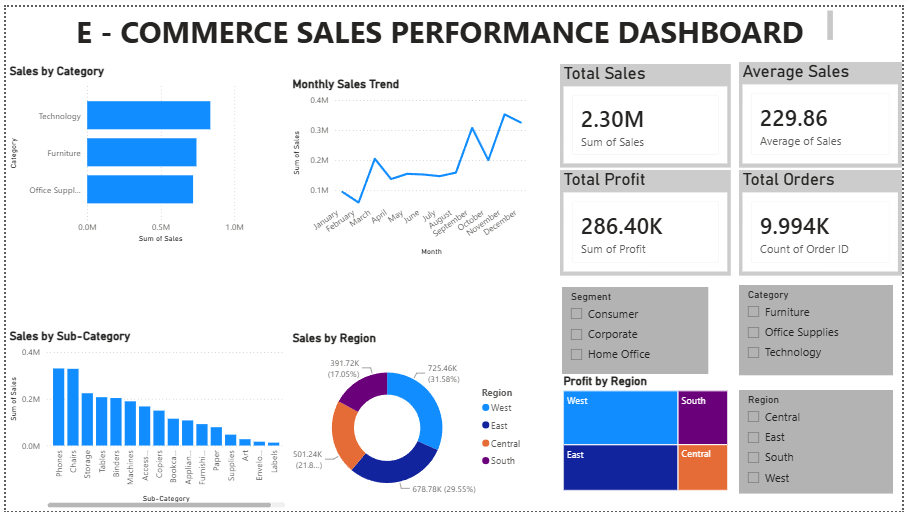

Layout of this report page (visuals, bound fields, positions):
{"tool":"powerbi","page":{"name":"Page 1","canvas":[1280,720],"ordinal":0},"visuals":[{"type":"cardVisual","title":"Total Sales","fields":{"Data":["Sum(Sample_-_Superstore[1] (2).Sales)"]},"box":[791.7,82,244.4,147.8],"z":0},{"type":"cardVisual","title":"Total Profit","fields":{"Data":["Sum(Sample_-_Superstore[1] (2).Profit)"]},"box":[791.7,232.7,244.4,150.7],"z":1000},{"type":"cardVisual","title":"Total Orders","fields":{"Data":["CountNonNull(Sample_-_Superstore[1] (2).Order ID)"]},"box":[1047.8,232.7,232.7,150.7],"z":2000},{"type":"cardVisual","title":"Average Sales","fields":{"Data":["Avg(Sample_-_Superstore[1] (2).Sales)"]},"box":[1047.8,79,232.7,150.7],"z":3000},{"type":"lineClusteredColumnComboChart","title":"Sales by Sub-Category","fields":{"Category":["Sample_-_Superstore[1] (2).Sub-Category"],"Y":["Sum(Sample_-_Superstore[1] (2).Sales)"]},"box":[0,459.5,403.9,260.5],"z":4000},{"type":"lineChart","title":"Monthly Sales Trend","fields":{"Y":["Sum(Sample_-_Superstore[1] (2).Sales)"],"Category":["Sample_-_Superstore[1] (2).Order Date.Variation.Date Hierarchy.Month"]},"box":[403.9,99.5,345.4,260.5],"z":5000},{"type":"donutChart","title":"Sales by Region","fields":{"Category":["Sample_-_Superstore[1] (2).Region"],"Y":["Sum(Sample_-_Superstore[1] (2).Sales)"]},"box":[403.9,462.4,345.4,257.6],"z":6000},{"type":"clusteredBarChart","title":"Sales by Category","fields":{"Category":["Sample_-_Superstore[1] (2).Category"],"Y":["Sum(Sample_-_Superstore[1] (2).Sales)"]},"box":[0,82,345.4,260.5],"z":7000},{"type":"slicer","fields":{"Values":["Sample_-_Superstore[1] (2).Region"]},"box":[1047.8,547.3,219.5,147.8],"z":8000},{"type":"slicer","fields":{"Values":["Sample_-_Superstore[1] (2).Category"]},"box":[1047.8,396.6,219.5,128.8],"z":9000},{"type":"slicer","fields":{"Values":["Sample_-_Superstore[1] (2).Segment"]},"box":[794.6,399.5,209.3,125.9],"z":10000},{"type":"treemap","title":"Profit by Region","fields":{"Group":["Sample_-_Superstore[1] (2).Region"],"Values":["Sum(Sample_-_Superstore[1] (2).Profit)"]},"box":[791.7,523.9,244.4,171.2],"z":11000},{"type":"textbox","box":[93.7,0,1091.7,58.5],"z":12000}]}

Visuals, with their boxes in screenshot pixels (x1, y1, x2, y2), scaled from the page's 1280x720 canvas onto the 907x512 screenshot:
"Total Sales" cardVisual: bbox=[561, 58, 734, 163]
"Total Profit" cardVisual: bbox=[561, 165, 734, 273]
"Total Orders" cardVisual: bbox=[742, 165, 906, 273]
"Average Sales" cardVisual: bbox=[742, 56, 906, 163]
"Sales by Sub-Category" lineClusteredColumnComboChart: bbox=[0, 327, 286, 511]
"Monthly Sales Trend" lineChart: bbox=[286, 71, 531, 256]
"Sales by Region" donutChart: bbox=[286, 329, 531, 511]
"Sales by Category" clusteredBarChart: bbox=[0, 58, 245, 244]
slicer - Sample_-_Superstore[1] (2).Region: bbox=[742, 389, 898, 494]
slicer - Sample_-_Superstore[1] (2).Category: bbox=[742, 282, 898, 374]
slicer - Sample_-_Superstore[1] (2).Segment: bbox=[563, 284, 711, 374]
"Profit by Region" treemap: bbox=[561, 373, 734, 494]
textbox: bbox=[66, 0, 840, 42]
